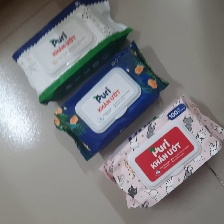Puri Trang: (11, 1, 135, 107)
Puri Xanh: (50, 40, 171, 161)
Puri hong: (99, 93, 224, 210)
